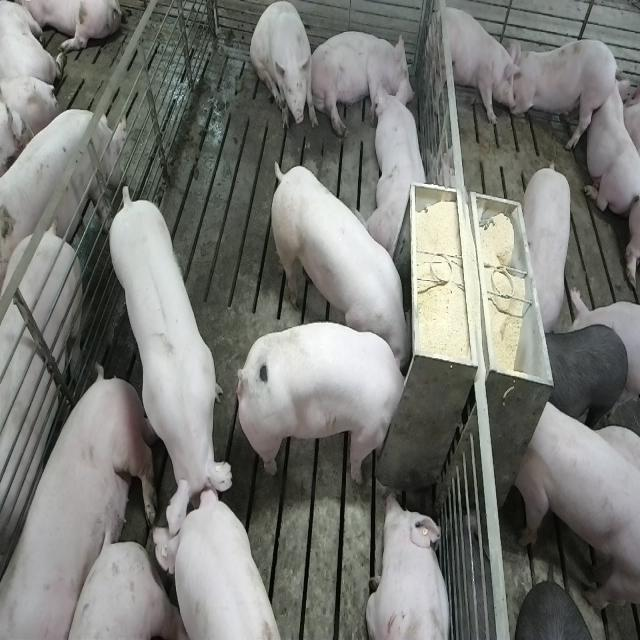Feeding: (266, 159, 411, 366), (242, 321, 416, 486)
Lateral_lying: (3, 366, 158, 640), (307, 29, 417, 139)
Sitting: (250, 3, 314, 137)
Standing: (105, 187, 230, 532), (0, 222, 86, 604), (514, 396, 638, 626), (0, 102, 123, 281), (147, 486, 285, 640), (509, 33, 619, 149), (430, 2, 520, 130), (523, 159, 576, 332), (545, 322, 629, 426)
Sternal_lying: (365, 489, 453, 640), (368, 82, 431, 263), (583, 76, 639, 214)
